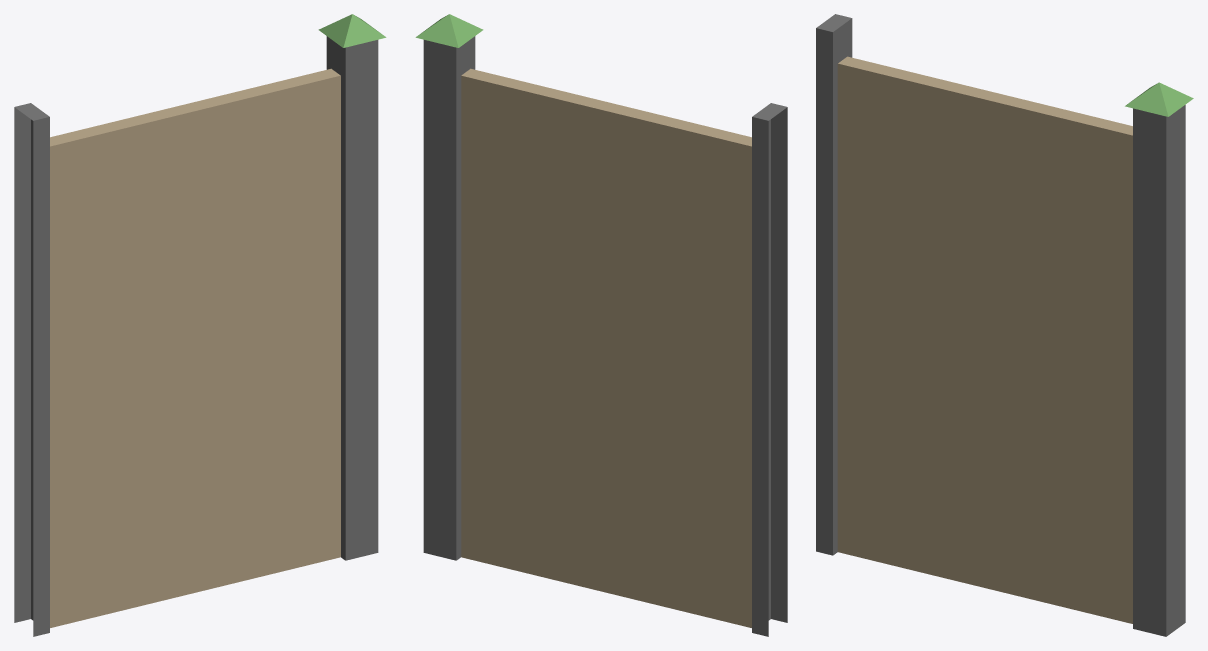
File: SM_Fence_End_200.fbx
The picture shows the model from 3 angles, left to right: view 1: azimuth 30°, elevation 25°; view 2: azimuth 150°, elevation 25°; view 3: azimuth 330°, elevation 25°; orthographic projection.
Parts seen in each view (by area): view 1: SM_Fence_End_200; view 2: SM_Fence_End_200; view 3: SM_Fence_End_200.
Part boxes in pixels (x1=…): SM_Fence_End_200: x1=14, y1=14, x2=386, y2=636; SM_Fence_End_200: x1=415, y1=14, x2=787, y2=636; SM_Fence_End_200: x1=816, y1=14, x2=1193, y2=636.
Size of the model in its own units: 213 by 311 by 26.38.
